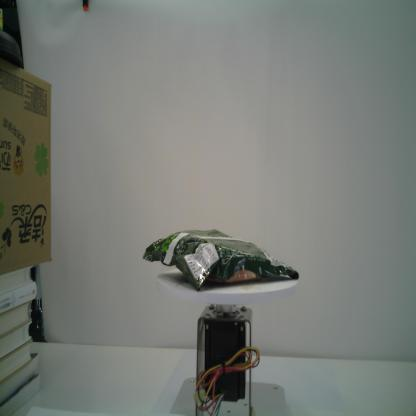Instant Noodles: (140, 225, 300, 292)
